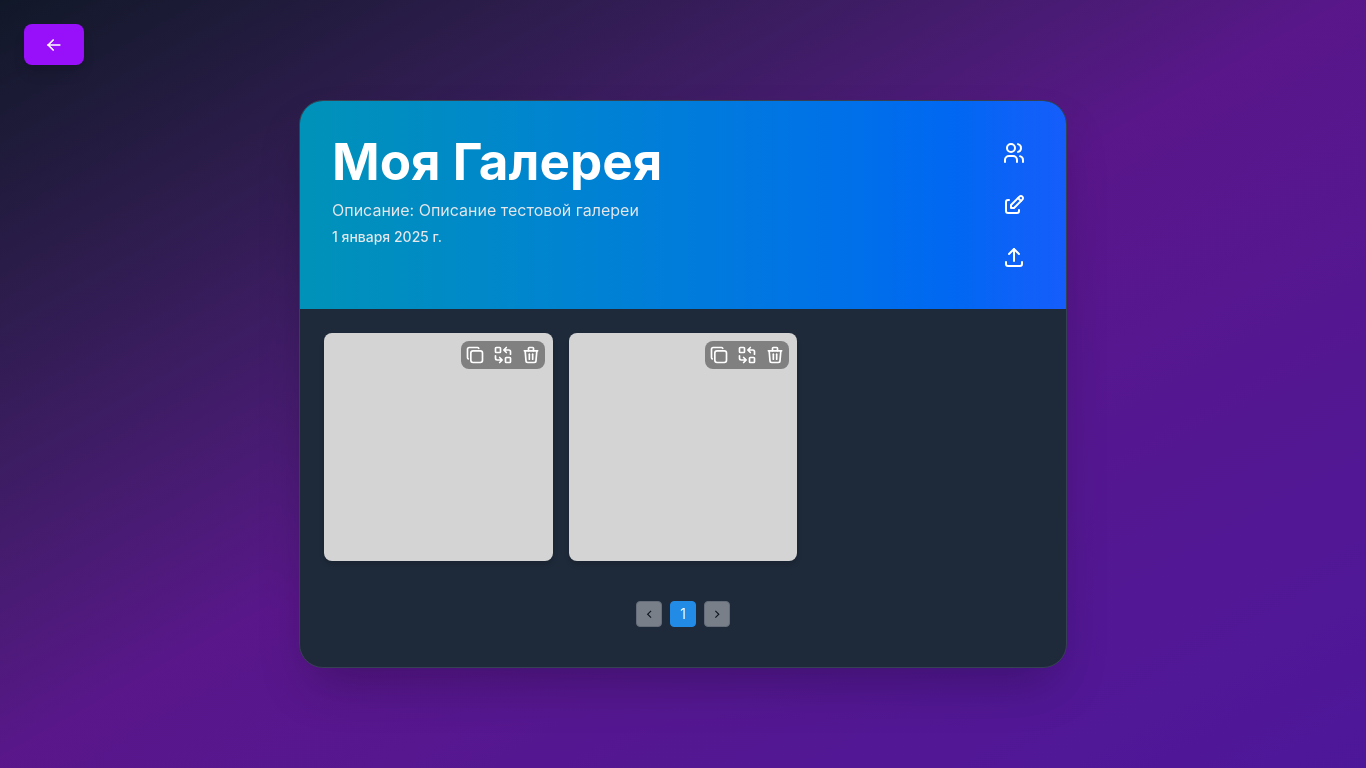
Scenario: DetailsGallery Page Coverage › должен открывать модальное окно загрузки файлов
The width and height of the screenshot is (1366, 768).
Expected: the heading "Моя Галерея" is shown, [332,130,662,192]
Click the icon with class "tabler-icon-upload" at (1014, 257), box [1002,245,1026,269]
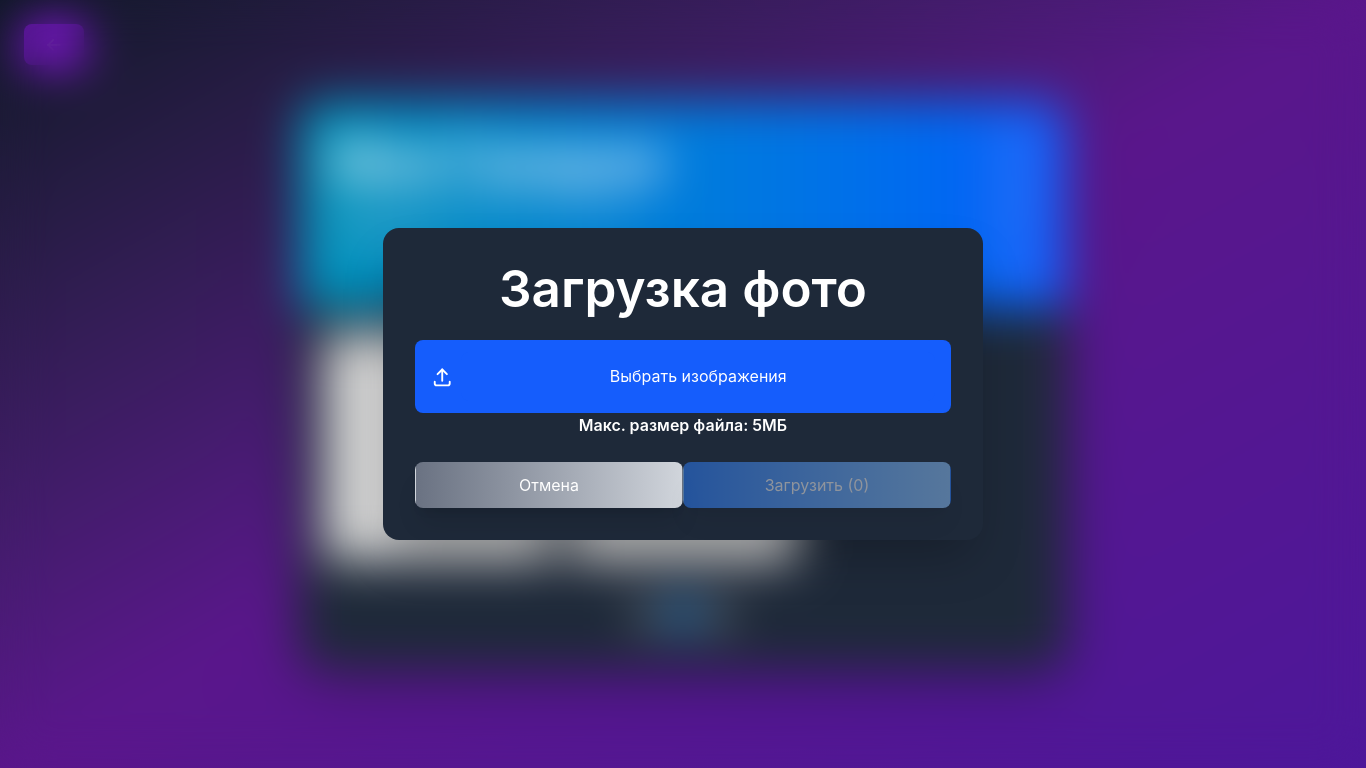
Result: the heading "Загрузка фото" is shown at [499,257,867,319]
